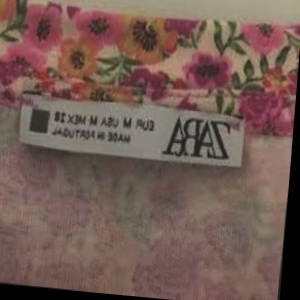zara: (111, 44, 299, 194)
